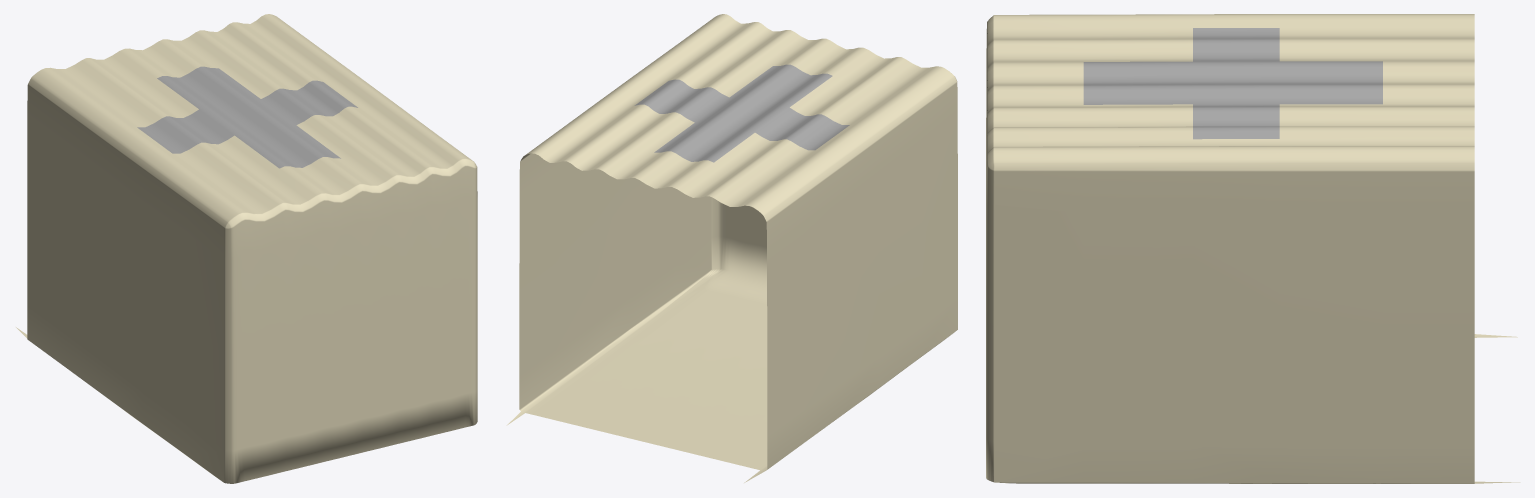
The model's file is Tent.fbx.
3 renders of one model, left to right at view 1: azimuth 30°, elevation 25°; view 2: azimuth 150°, elevation 25°; view 3: azimuth 270°, elevation 25°, orthographic. The views are drawn at different scales.
Parts seen in each view (by area): view 1: Tent; view 2: Tent; view 3: Tent.
Part boxes in pixels (x1=…): Tent: x1=16, y1=14, x2=477, y2=483; Tent: x1=506, y1=14, x2=957, y2=482; Tent: x1=986, y1=14, x2=1520, y2=483.
Bounding box in the file's own units: 799 × 806 × 1190.
